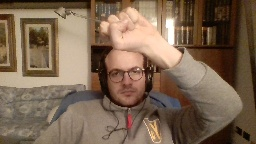Pugno: (95, 3, 153, 51)
